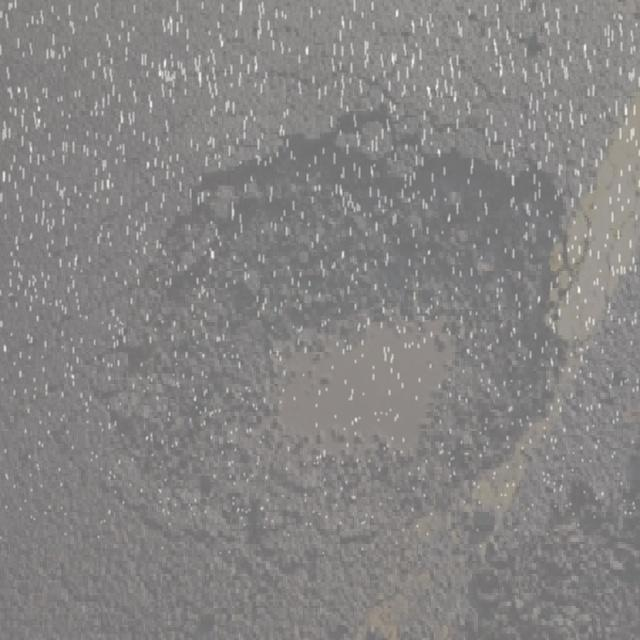Pothole: (54, 101, 583, 558)
